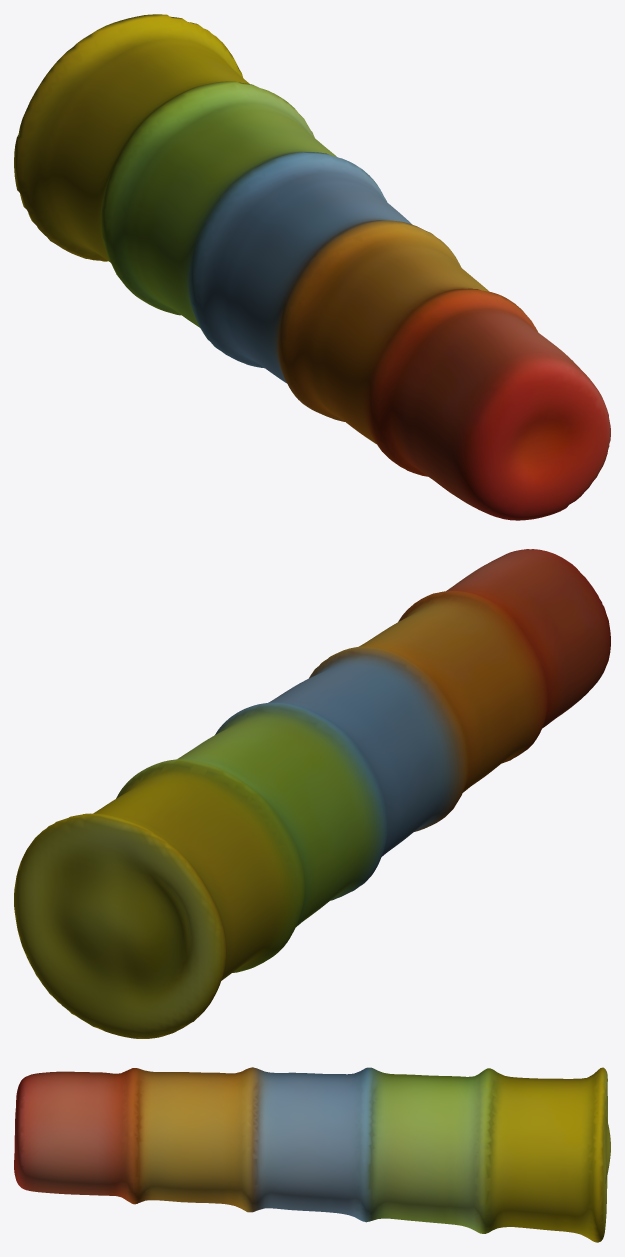
File: stucking_cups.glb
3 renders of one model, top to bottom at view 1: azimuth 30°, elevation 25°; view 2: azimuth 150°, elevation 25°; view 3: azimuth 270°, elevation 25°, orthographic. The views are drawn at different scales.
Size of the model in its own units: 0.2943 by 0.2894 by 0.9997.
